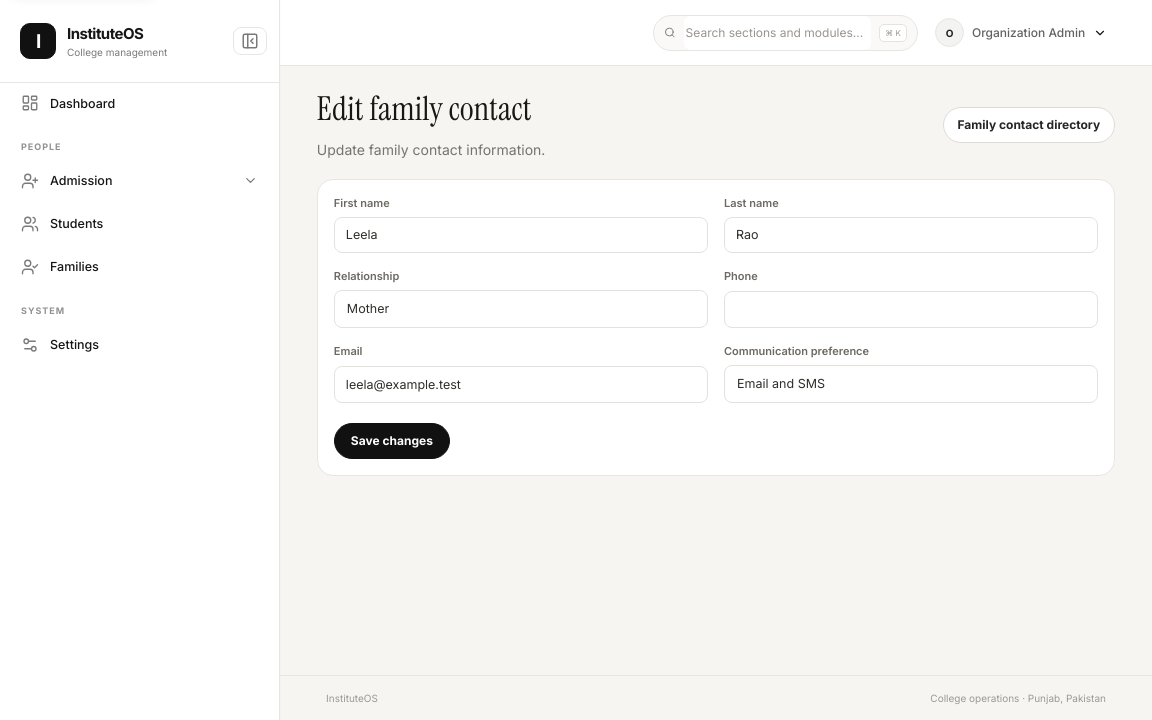
family and parent relationship pages › updates family contact details and confirms the successful save
Replace the text in the field labelled "First name" with "Leela Devi". click: {"x": 521, "y": 235}
box: [334,217,708,253]
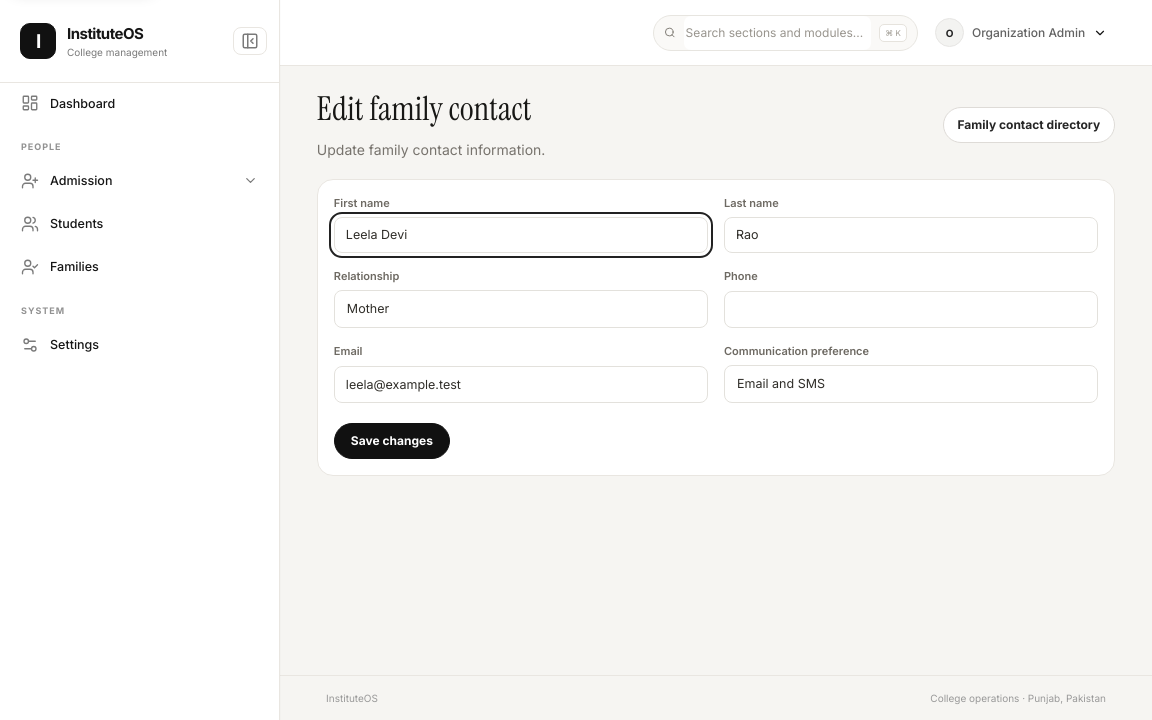
Click the button "Save changes". click: {"x": 392, "y": 441}
box: [334,423,450,459]
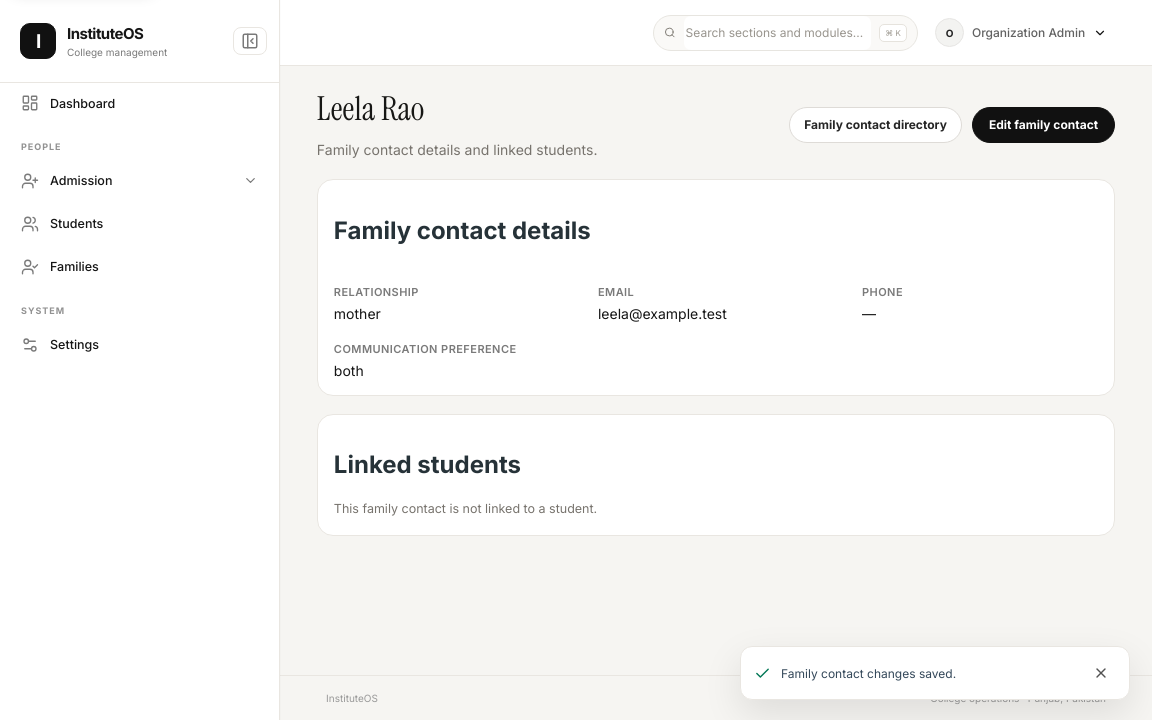
Check: the heading "Leela Rao" is shown, box [317,90,424,130]
Check: the message reads "Family contact changes saved.", box [781,666,956,680]
